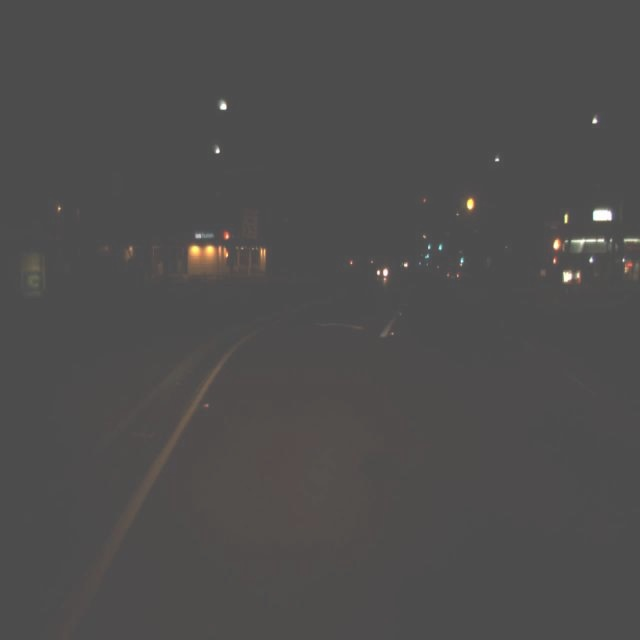warning: (468, 199, 474, 209), (554, 240, 559, 249)
warning traffic light: (467, 190, 475, 217), (552, 232, 560, 255)
